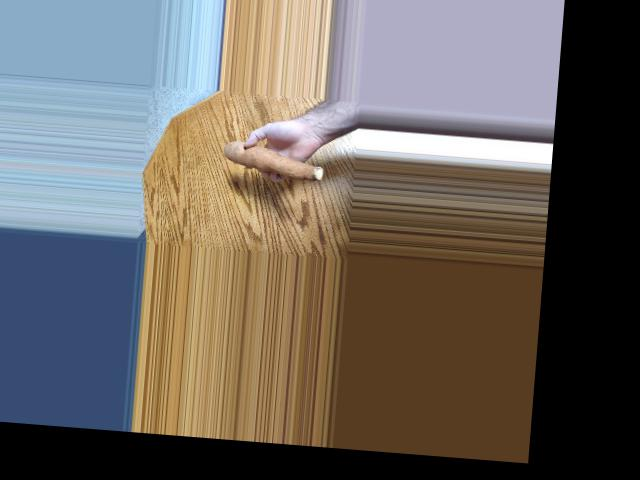sweet_potato: (215, 143, 321, 181)
